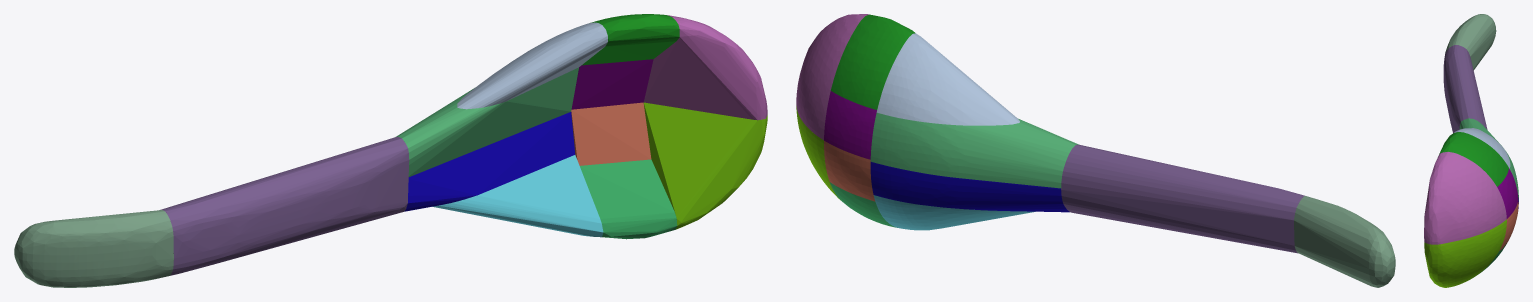
The model's file is coacd_collision.obj.
3 views of the same model, side by side, from view 1: azimuth 30°, elevation 25°; view 2: azimuth 150°, elevation 25°; view 3: azimuth 270°, elevation 25° (orthographic). The views are drawn at different scales.
Parts seen in each view (by area): view 1: geometry_1, geometry_0, geometry_4, geometry_7, geometry_3, geometry_5, geometry_2, geometry_10, geometry_6, geometry_9, geometry_8, geometry_11; view 2: geometry_1, geometry_3, geometry_6, geometry_0, geometry_5, geometry_8, geometry_7, geometry_2, geometry_11, geometry_9, geometry_4, geometry_10; view 3: geometry_7, geometry_4, geometry_1, geometry_8, geometry_0, geometry_11, geometry_6, geometry_3, geometry_9.
Boxes of the visible parts, x1=… form: geometry_1: x1=159, y1=136, x2=409, y2=275; geometry_0: x1=14, y1=210, x2=173, y2=287; geometry_4: x1=643, y1=102, x2=767, y2=229; geometry_7: x1=643, y1=15, x2=767, y2=120; geometry_3: x1=396, y1=67, x2=578, y2=176; geometry_5: x1=404, y1=112, x2=575, y2=211; geometry_2: x1=432, y1=155, x2=603, y2=237; geometry_10: x1=580, y1=159, x2=677, y2=239; geometry_6: x1=457, y1=22, x2=607, y2=109; geometry_9: x1=571, y1=102, x2=651, y2=165; geometry_8: x1=582, y1=14, x2=679, y2=65; geometry_11: x1=571, y1=59, x2=653, y2=109; geometry_1: x1=1061, y1=144, x2=1304, y2=253; geometry_3: x1=870, y1=112, x2=1078, y2=188; geometry_6: x1=876, y1=33, x2=1019, y2=125; geometry_0: x1=1294, y1=196, x2=1395, y2=287; geometry_5: x1=870, y1=162, x2=1069, y2=212; geometry_8: x1=831, y1=14, x2=915, y2=109; geometry_7: x1=796, y1=14, x2=869, y2=140; geometry_2: x1=873, y1=195, x2=1035, y2=230; geometry_11: x1=824, y1=91, x2=876, y2=159; geometry_9: x1=824, y1=141, x2=875, y2=201; geometry_4: x1=796, y1=106, x2=840, y2=200; geometry_10: x1=830, y1=182, x2=897, y2=227; geometry_7: x1=1424, y1=152, x2=1506, y2=244; geometry_4: x1=1424, y1=219, x2=1506, y2=287; geometry_1: x1=1443, y1=45, x2=1487, y2=133; geometry_8: x1=1439, y1=132, x2=1508, y2=186; geometry_0: x1=1445, y1=14, x2=1496, y2=70; geometry_11: x1=1497, y1=168, x2=1518, y2=218; geometry_6: x1=1454, y1=128, x2=1510, y2=168; geometry_3: x1=1459, y1=118, x2=1518, y2=200; geometry_9: x1=1499, y1=201, x2=1518, y2=250.
Bounding box in the file's own units: 231 × 69.12 × 42.18.
